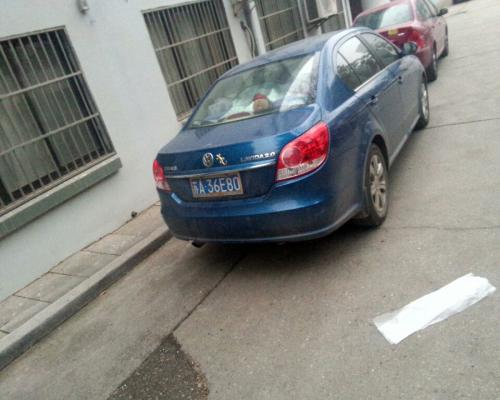Carplate: (186, 171, 246, 198)
